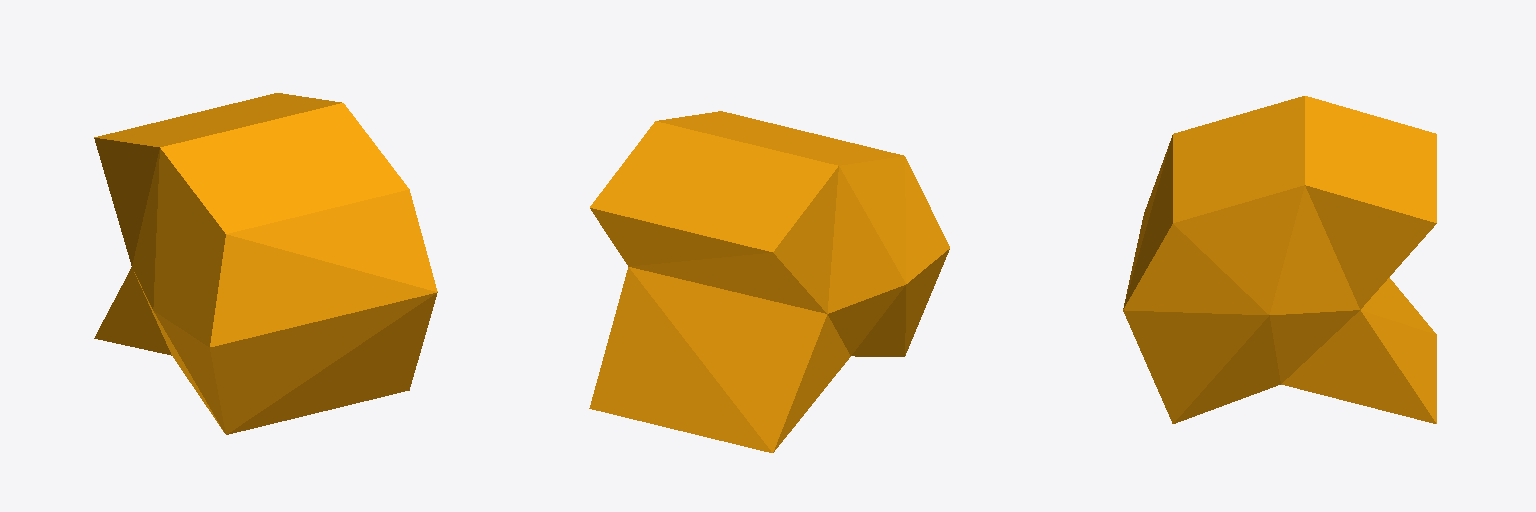
3 views of the same model, side by side, from view 1: azimuth 30°, elevation 25°; view 2: azimuth 150°, elevation 25°; view 3: azimuth 270°, elevation 25° (orthographic).
Visible parts, largest first — view 1: debris1; view 2: debris1; view 3: debris1.
Part boxes in pixels (x1,y1,x2,y2): debris1: (94, 93, 437, 434); debris1: (589, 111, 949, 452); debris1: (1123, 96, 1436, 423).
Bounding box in the file's own units: 0.6592 × 0.6255 × 0.7439.
1 materials, 1 textured.